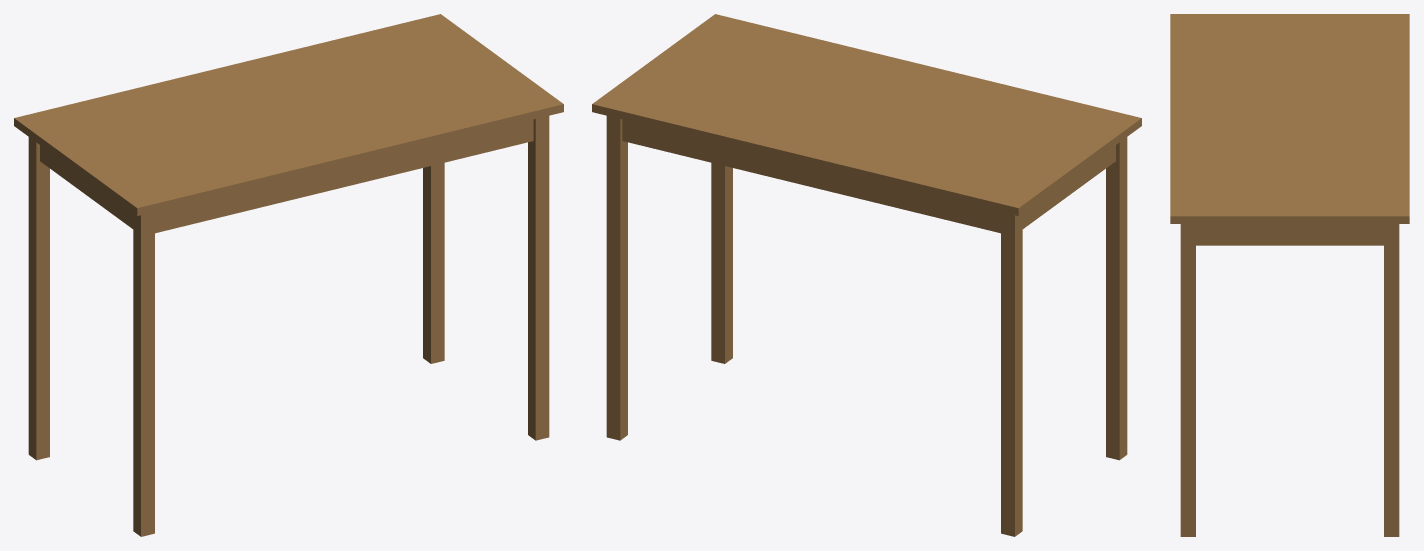
File: HIN-SDK-std.glb
3 views of the same model, side by side, from view 1: azimuth 30°, elevation 25°; view 2: azimuth 150°, elevation 25°; view 3: azimuth 270°, elevation 25° (orthographic). The views are drawn at different scales.
Parts seen in each view (by area): view 1: top:pbr, apron-f:pbr, leg-fl:pbr, leg-fr:pbr, leg-bl:pbr, leg-br:pbr, apron-l:pbr; view 2: top:pbr, apron-b:pbr, leg-bl:pbr, leg-br:pbr, leg-fl:pbr, leg-fr:pbr, apron-l:pbr; view 3: top:pbr, leg-fr:pbr, leg-br:pbr, apron-r:pbr.
Part boxes in pixels (x1,y1,x2,y2): top:pbr: (14,14,563,215); apron-f:pbr: (155,119,533,233); leg-fl:pbr: (133,212,154,536); leg-fr:pbr: (528,116,549,440); leg-bl:pbr: (28,137,49,460); leg-br:pbr: (423,162,444,363); apron-l:pbr: (40,145,133,228); top:pbr: (592,14,1141,215); apron-b:pbr: (622,119,1000,233); leg-bl:pbr: (1001,212,1022,536); leg-br:pbr: (606,116,627,440); leg-fl:pbr: (1106,137,1127,460); leg-fr:pbr: (711,162,732,363); apron-l:pbr: (1022,145,1115,228); top:pbr: (1170,14,1409,223); leg-fr:pbr: (1180,224,1195,536); leg-br:pbr: (1384,224,1399,536); apron-r:pbr: (1196,224,1383,245).
Bounding box in the file's own units: 1.4 × 1.05 × 0.7.
